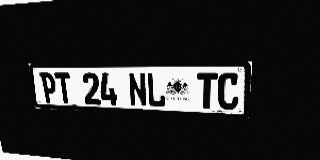2: (82, 72, 101, 105)
4: (98, 72, 118, 105)
C: (217, 73, 240, 110)
L: (146, 72, 166, 107)
N: (128, 72, 147, 107)
P: (39, 72, 58, 103)
T: (197, 73, 218, 109), (54, 72, 73, 104)
